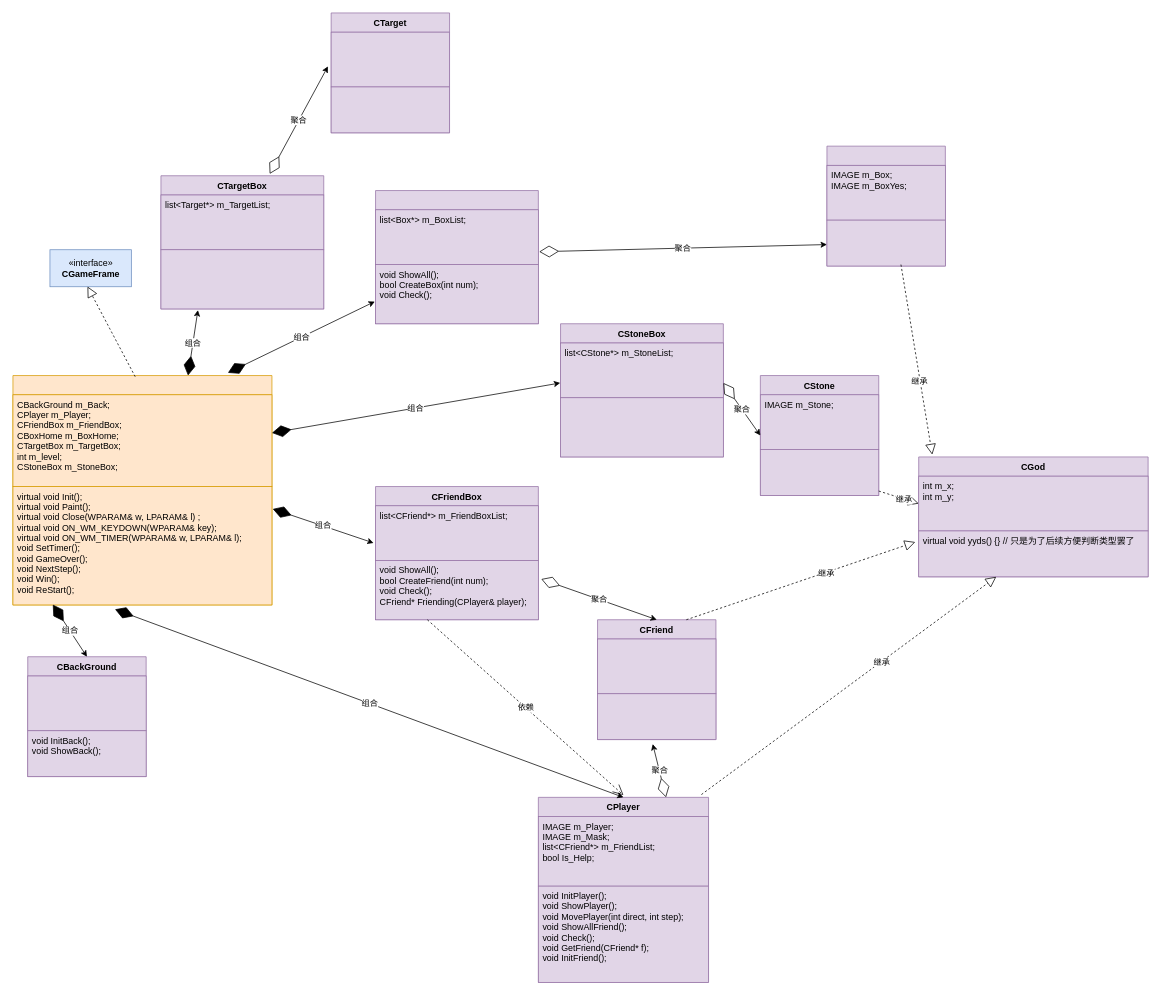
Some shapes in this 1161 by 998 pixel diagram are drawn without their labels. Here are the shapes that lost their labels. From the top down, the box of each, then its label:
(330, 31, 450, 87): IMAGE m_Target; int m_x; int m_y;
(330, 86, 450, 133): void InitTarget(int x, int y); void ShowTarget();
(826, 145, 945, 266): CBox
(375, 190, 538, 324): CBoxHome
(826, 219, 945, 266): void InitBox(int x, int y); void ShowBox();
(160, 249, 324, 309): void ShowAll(); void CreateTarget(int num);
(560, 397, 723, 457): void ShowAll(); bool CreateStone(int num); void Check();
(12, 375, 272, 605): CYuApp
(760, 449, 879, 495): void InitStone(int x, int y); void ShowStone();
(597, 638, 716, 694): IMAGE m_Friend; IMAGE m_Mask;
(27, 675, 146, 731): IMAGE m_back; IMAGE m_Mask; int m_x; int m_y;
(597, 693, 716, 740): void InitFriend(int x, int y); void ShowFrined();
